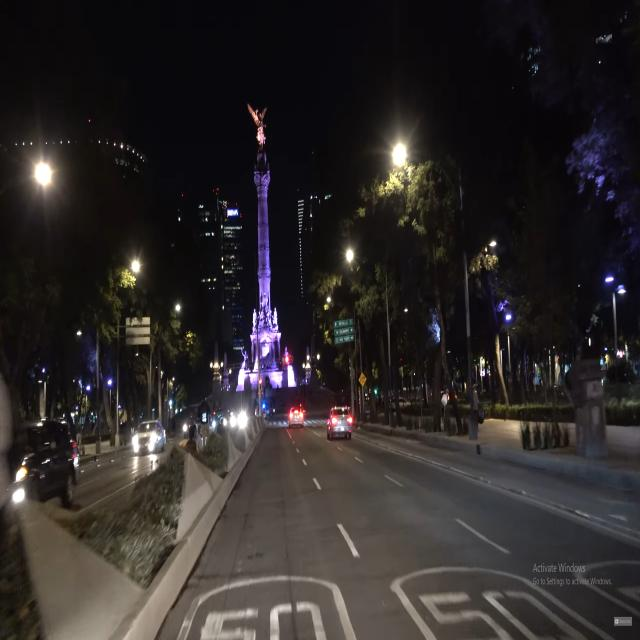headlights: (127, 434, 163, 454)
